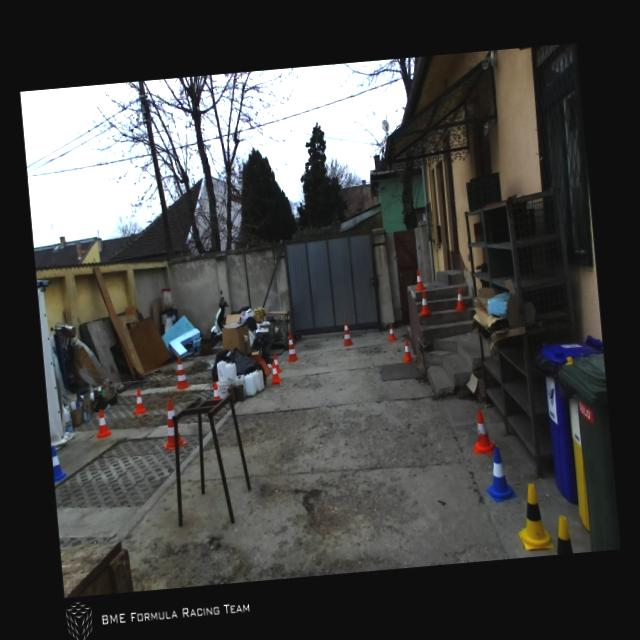blue_cone: (482, 445, 516, 504), (50, 445, 66, 483)
large_orange_cone: (158, 397, 187, 451), (171, 356, 191, 390), (284, 332, 298, 362), (340, 317, 353, 346)
orange_cone: (470, 408, 496, 456), (94, 408, 112, 439), (131, 387, 147, 415), (452, 286, 467, 310), (418, 291, 432, 316), (401, 338, 414, 362), (269, 360, 281, 384), (414, 268, 426, 290), (387, 323, 397, 342), (272, 352, 281, 373), (212, 381, 220, 402)
yellow_cone: (516, 481, 554, 552), (552, 514, 572, 554)
